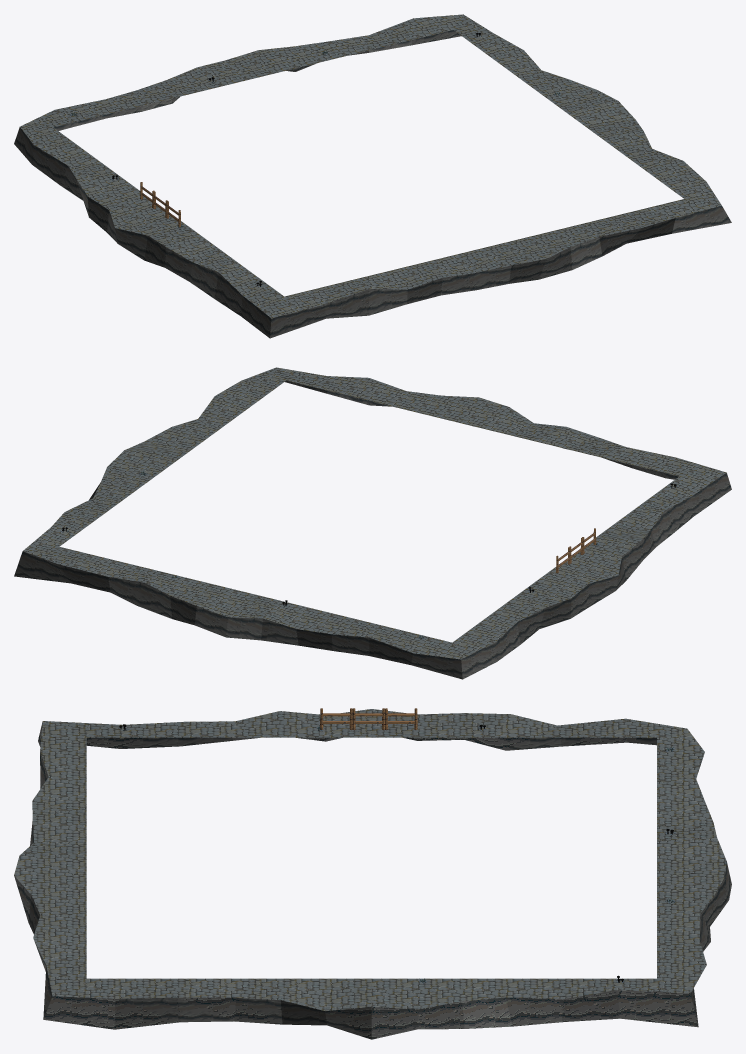
The model's file is entorno_16.fbx.
The picture shows the model from 3 angles, top to bottom: view 1: azimuth 30°, elevation 25°; view 2: azimuth 150°, elevation 25°; view 3: azimuth 270°, elevation 25°; orthographic projection. The views are drawn at different scales.
Parts seen in each view (by area): view 1: pedreira_entorno_16; view 2: pedreira_entorno_16; view 3: pedreira_entorno_16.
Part boxes in pixels (x1,y1,x2,y2): pedreira_entorno_16: (14, 14, 731, 338); pedreira_entorno_16: (14, 367, 731, 679); pedreira_entorno_16: (14, 708, 731, 1039).
Bounding box in the file's own units: 2059 × 170 × 2039.
Materials: 7 (5 with a texture image).
